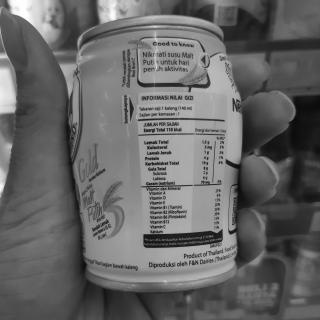alumunium_can: (60, 17, 250, 294)
